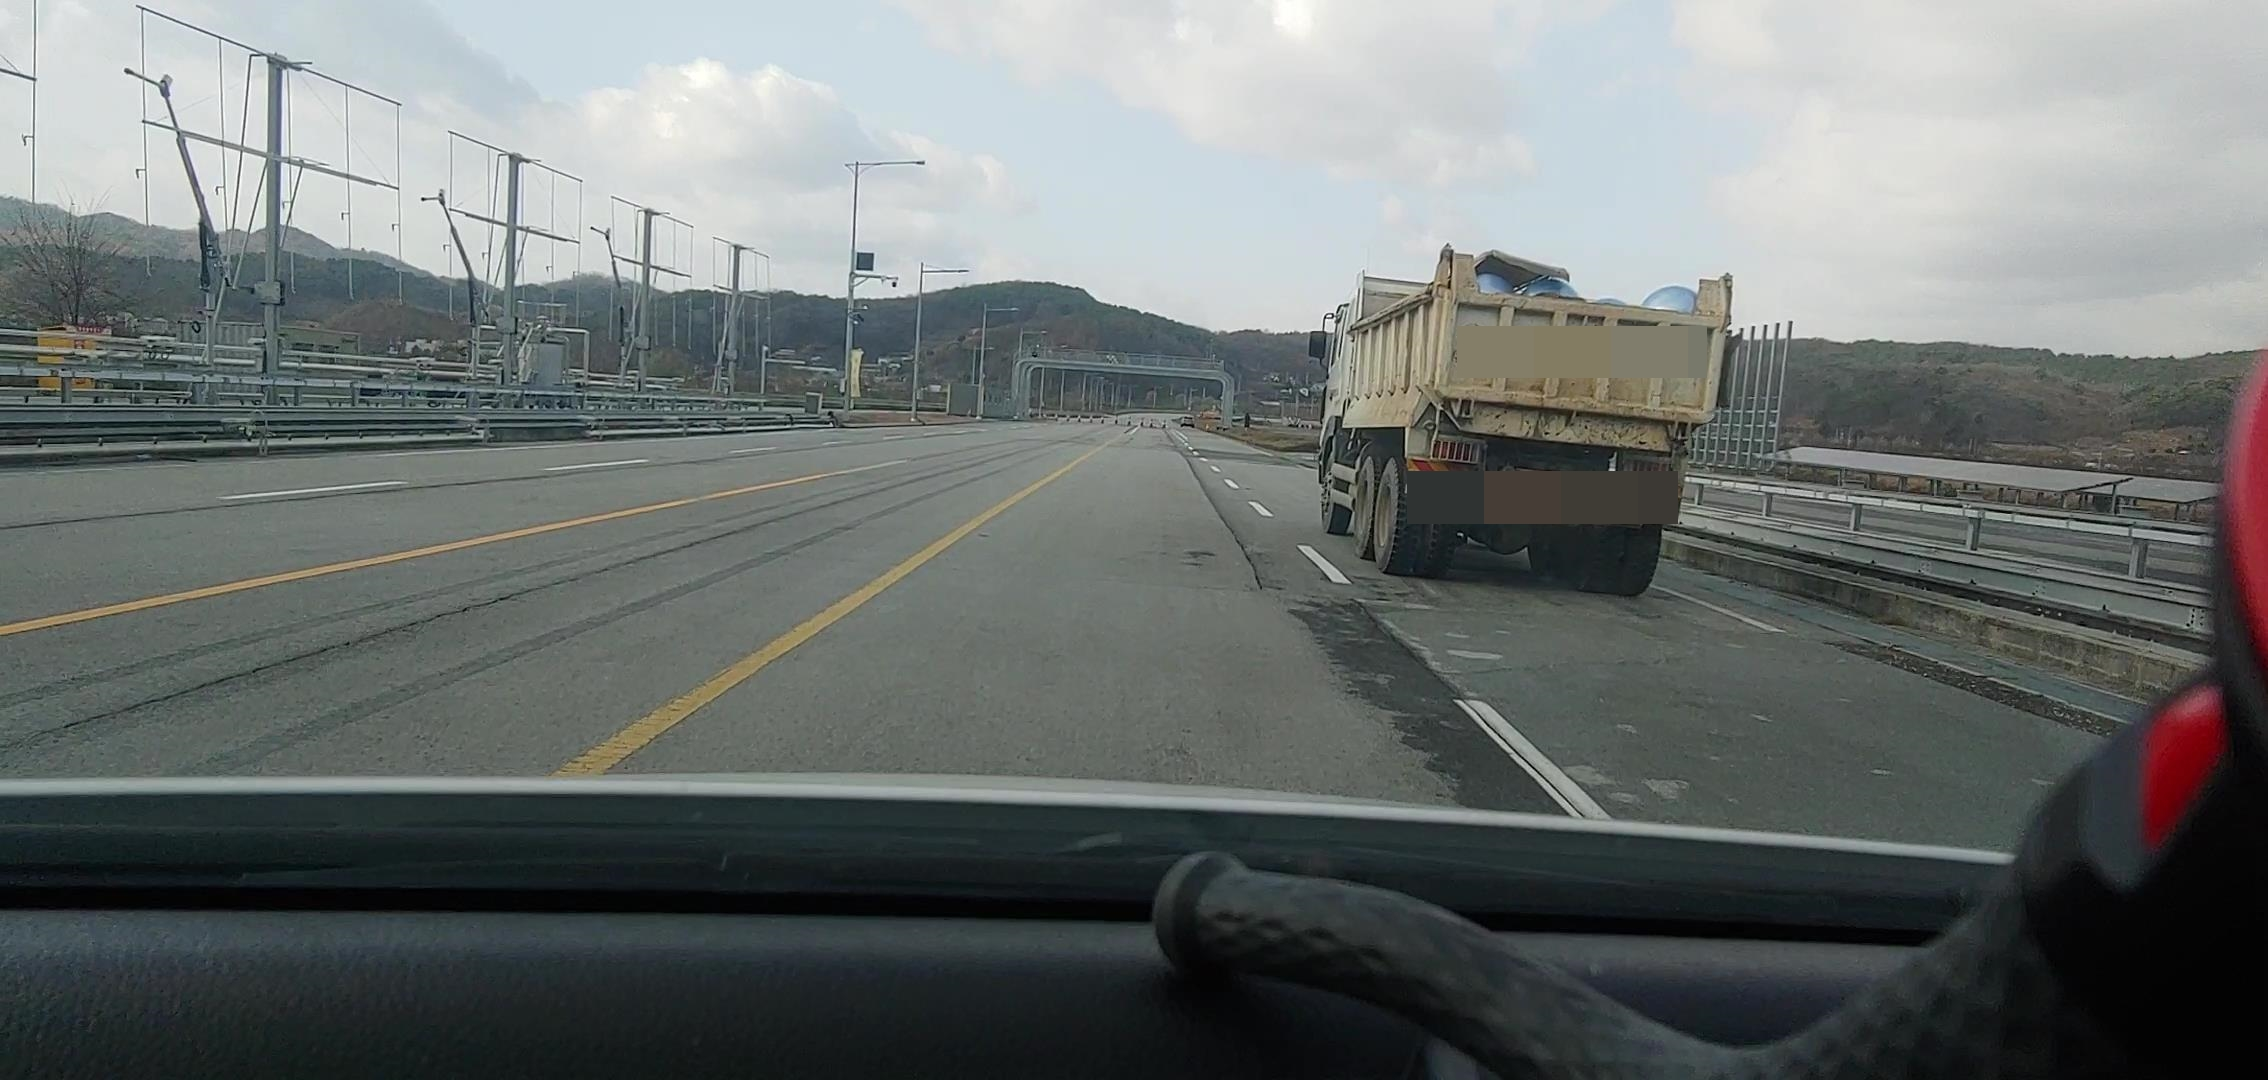불법차량: (1307, 243, 1744, 597)
